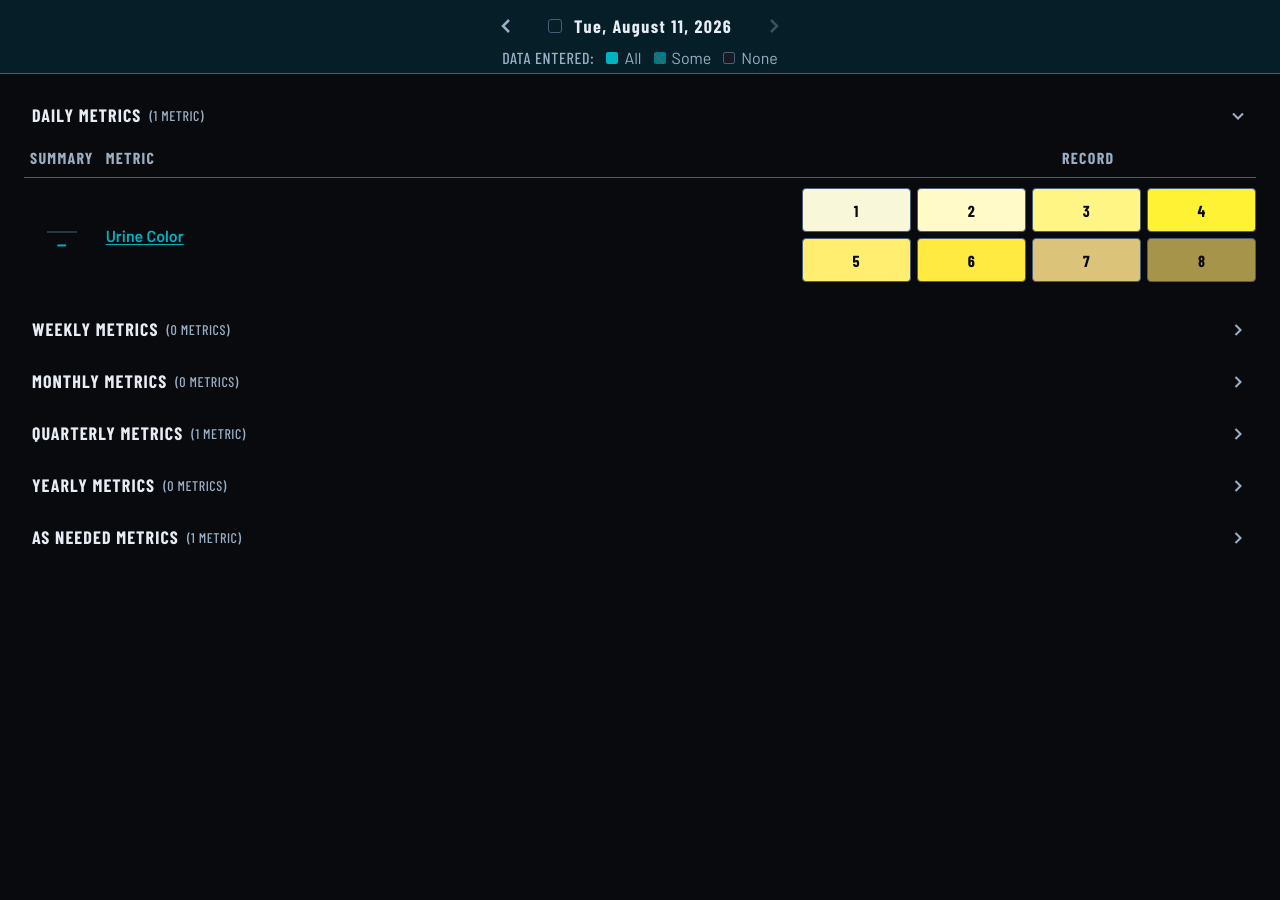
Scenario: MetricsDataEntryLog › groups a quarterly performance metric under Quarterly
Click the button "Quarterly Metrics (1 metric)": (108,433) [24,412,1256,456]
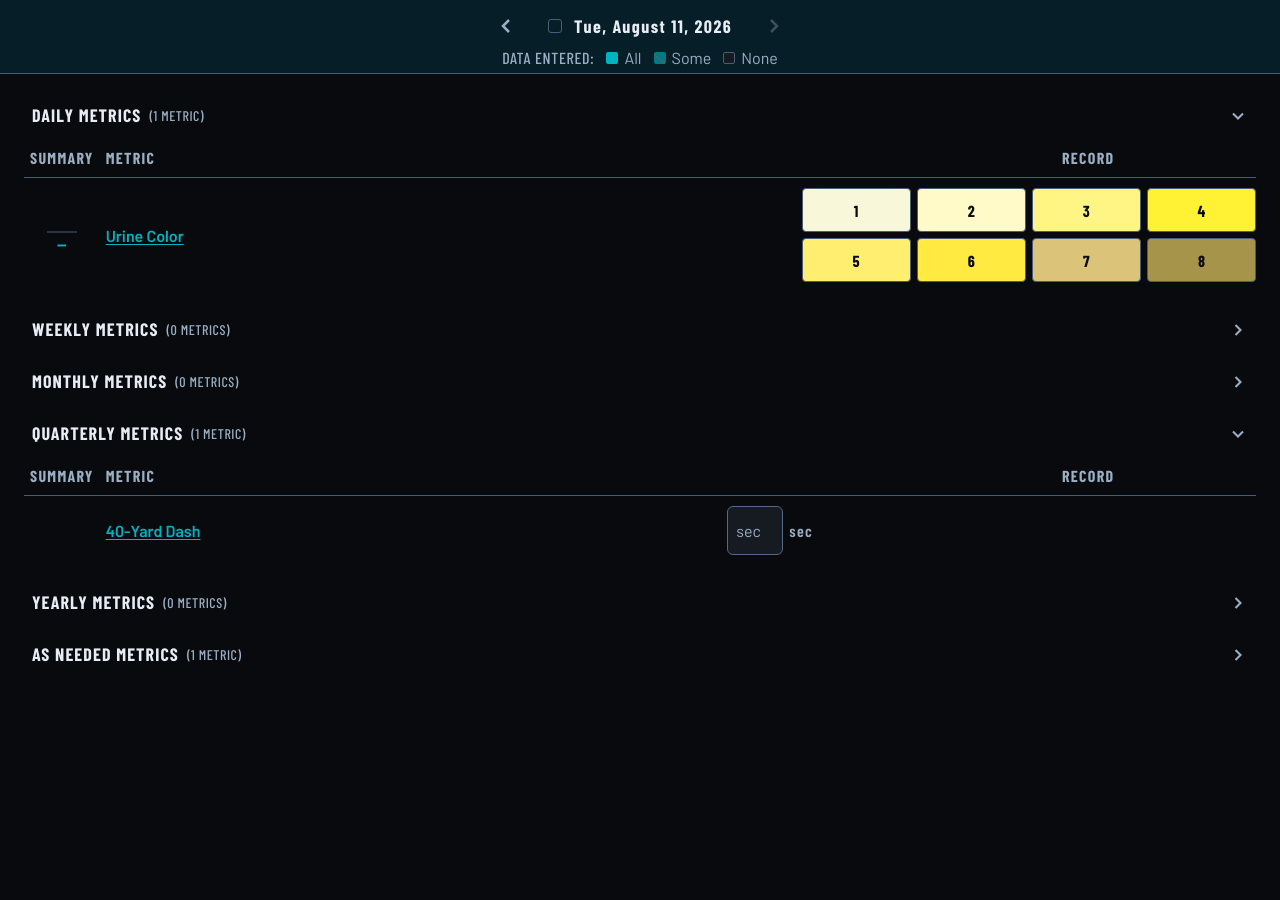
Expected: the link "40-Yard Dash" is shown, [106,521,200,545]
